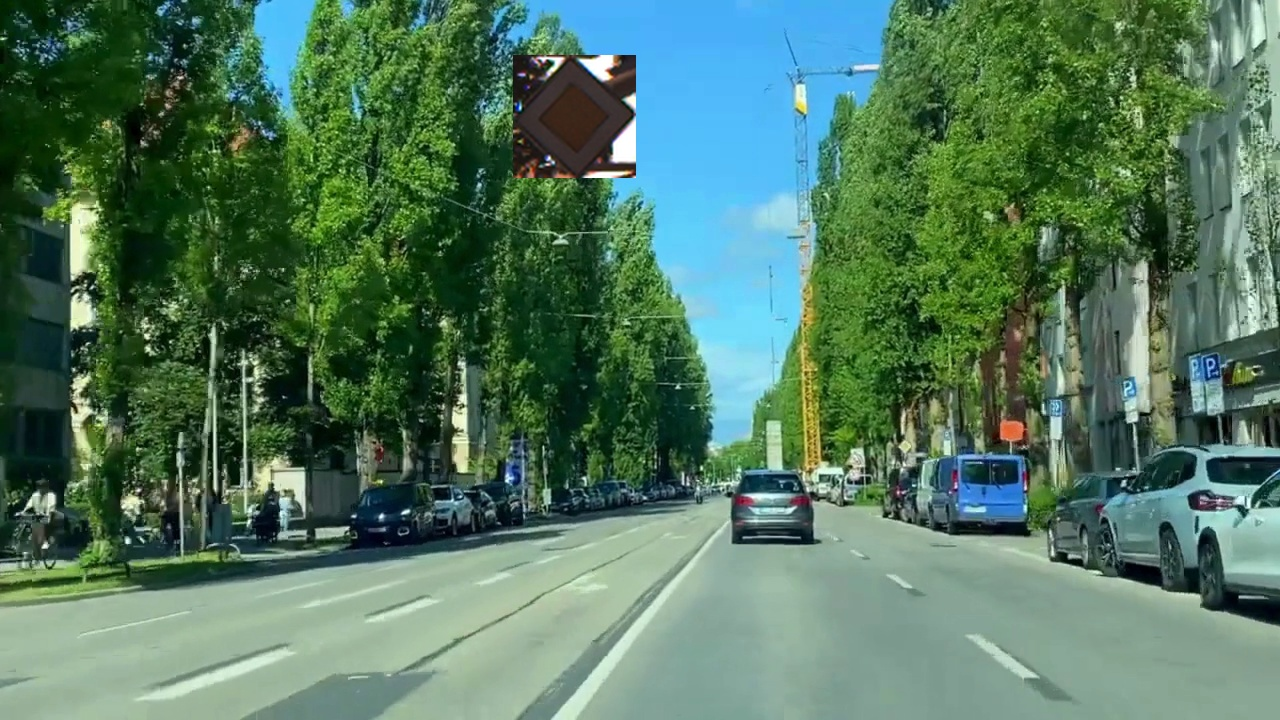Priority road: (513, 55, 636, 178)
